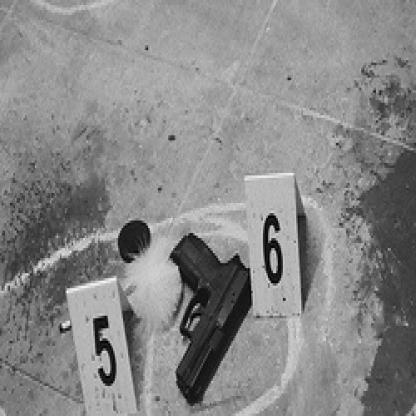gun: (166, 226, 253, 414)
